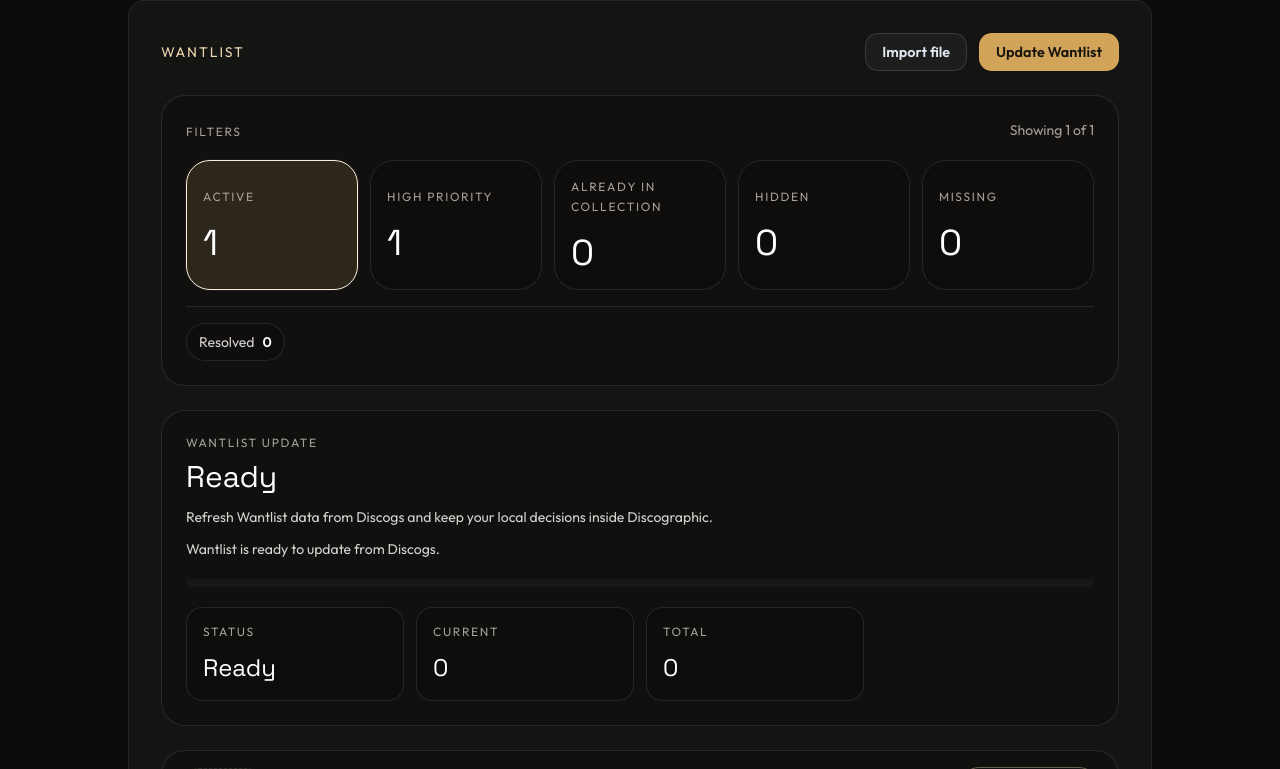
Scenario: Radar page › returns to the full Wantlist after a completed update finishes from a filtered view
What coordinates should you click on to do the following:
click the button "High priority 1"
I would click on:
 (456, 226)
Its box is [370,160,542,290].
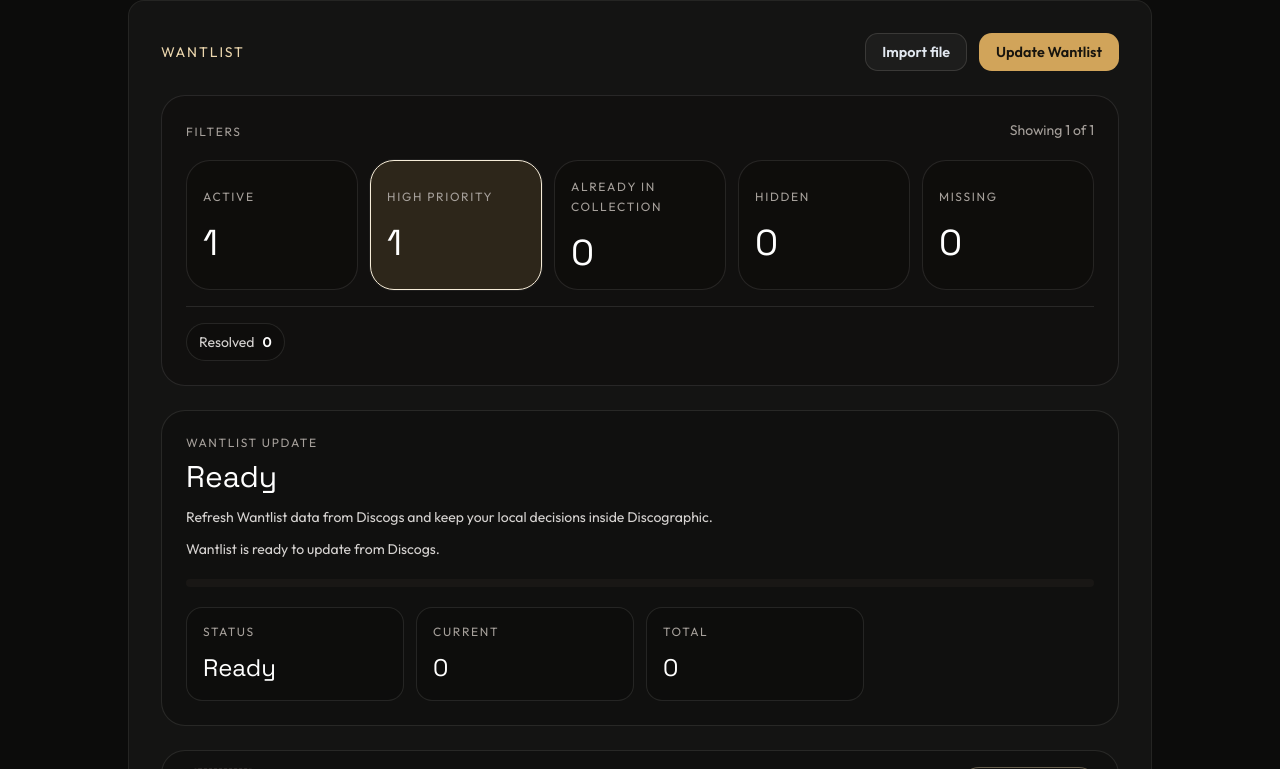
What coordinates should you click on to do the following:
click the button "Update Wantlist"
I would click on:
 (1049, 52)
Its box is [979,33,1119,72].
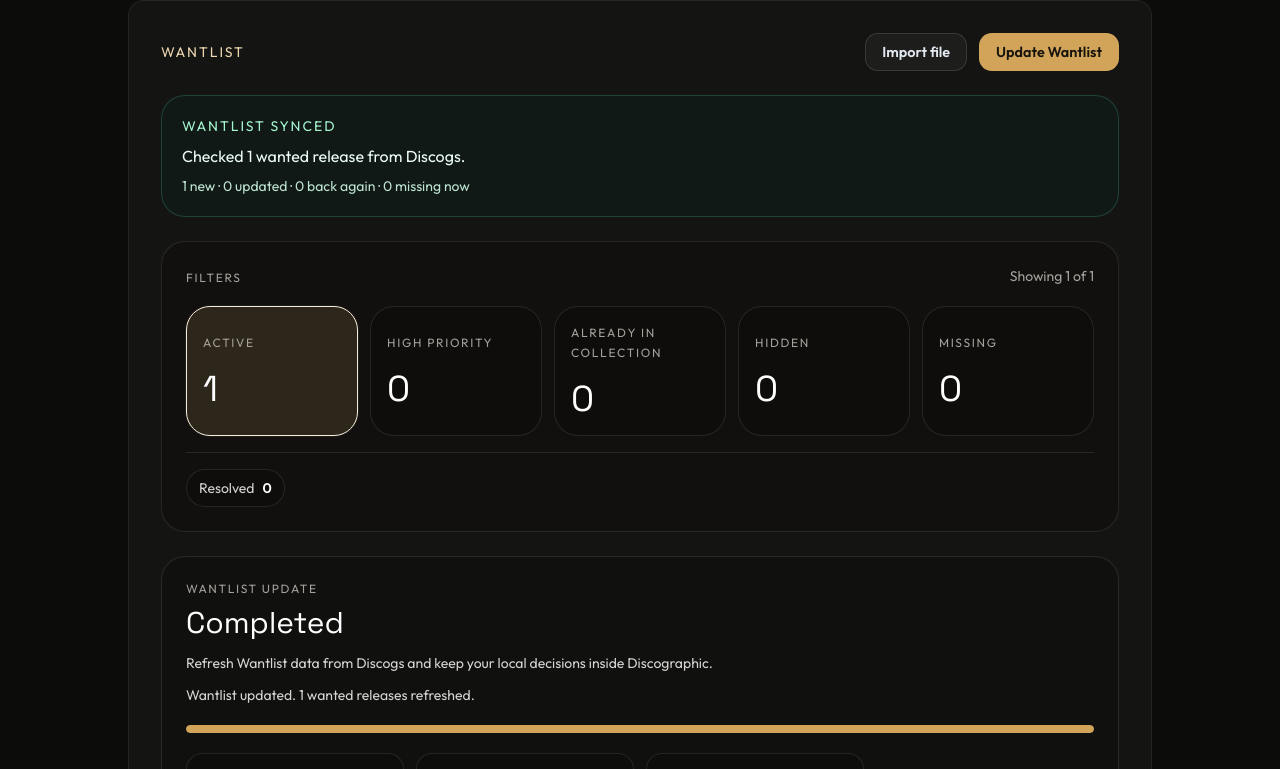
Check: the text "Wantlist synced" is shown, box [182,118,336,136]
